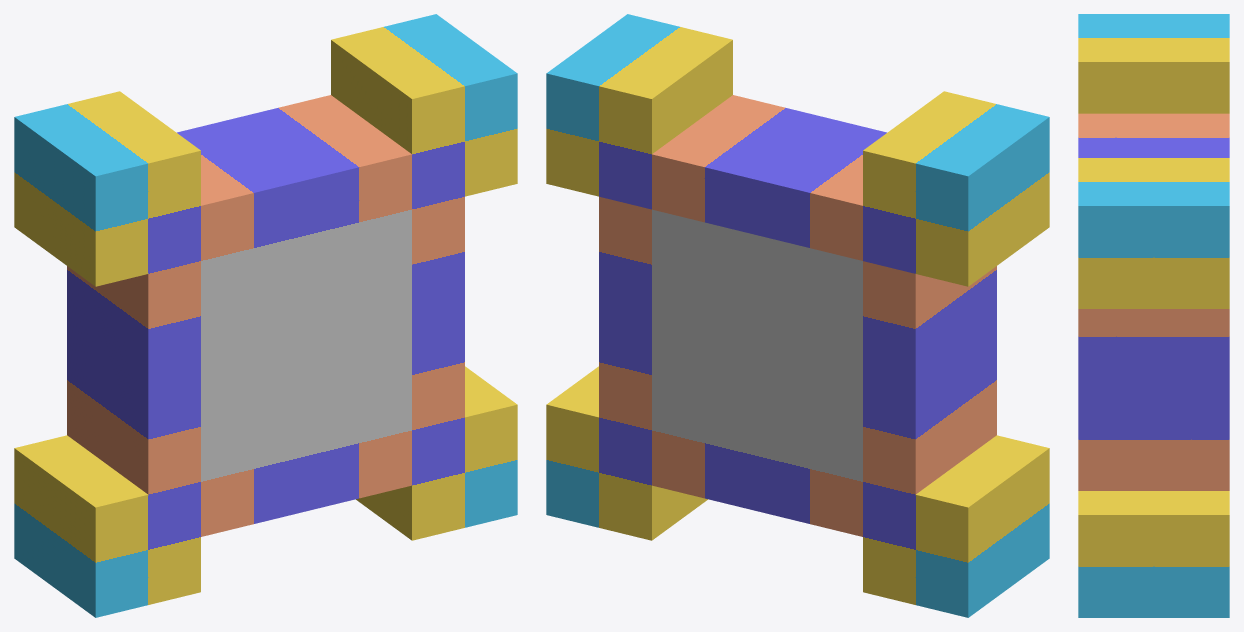
File: nocolor.obj
The picture shows the model from 3 angles, left to right: view 1: azimuth 30°, elevation 25°; view 2: azimuth 150°, elevation 25°; view 3: azimuth 270°, elevation 25°; orthographic projection. The views are drawn at different scales.
Visible parts, largest first — view 1: Cable_Cube.006; view 2: Cable_Cube.006; view 3: Cable_Cube.006.
Part boxes in pixels (x1,y1,x2,y2): Cable_Cube.006: [14, 14, 517, 617]; Cable_Cube.006: [546, 14, 1049, 617]; Cable_Cube.006: [1078, 14, 1229, 617].
Bounding box in the file's own units: 0.1875 × 0.1875 × 0.0625.
